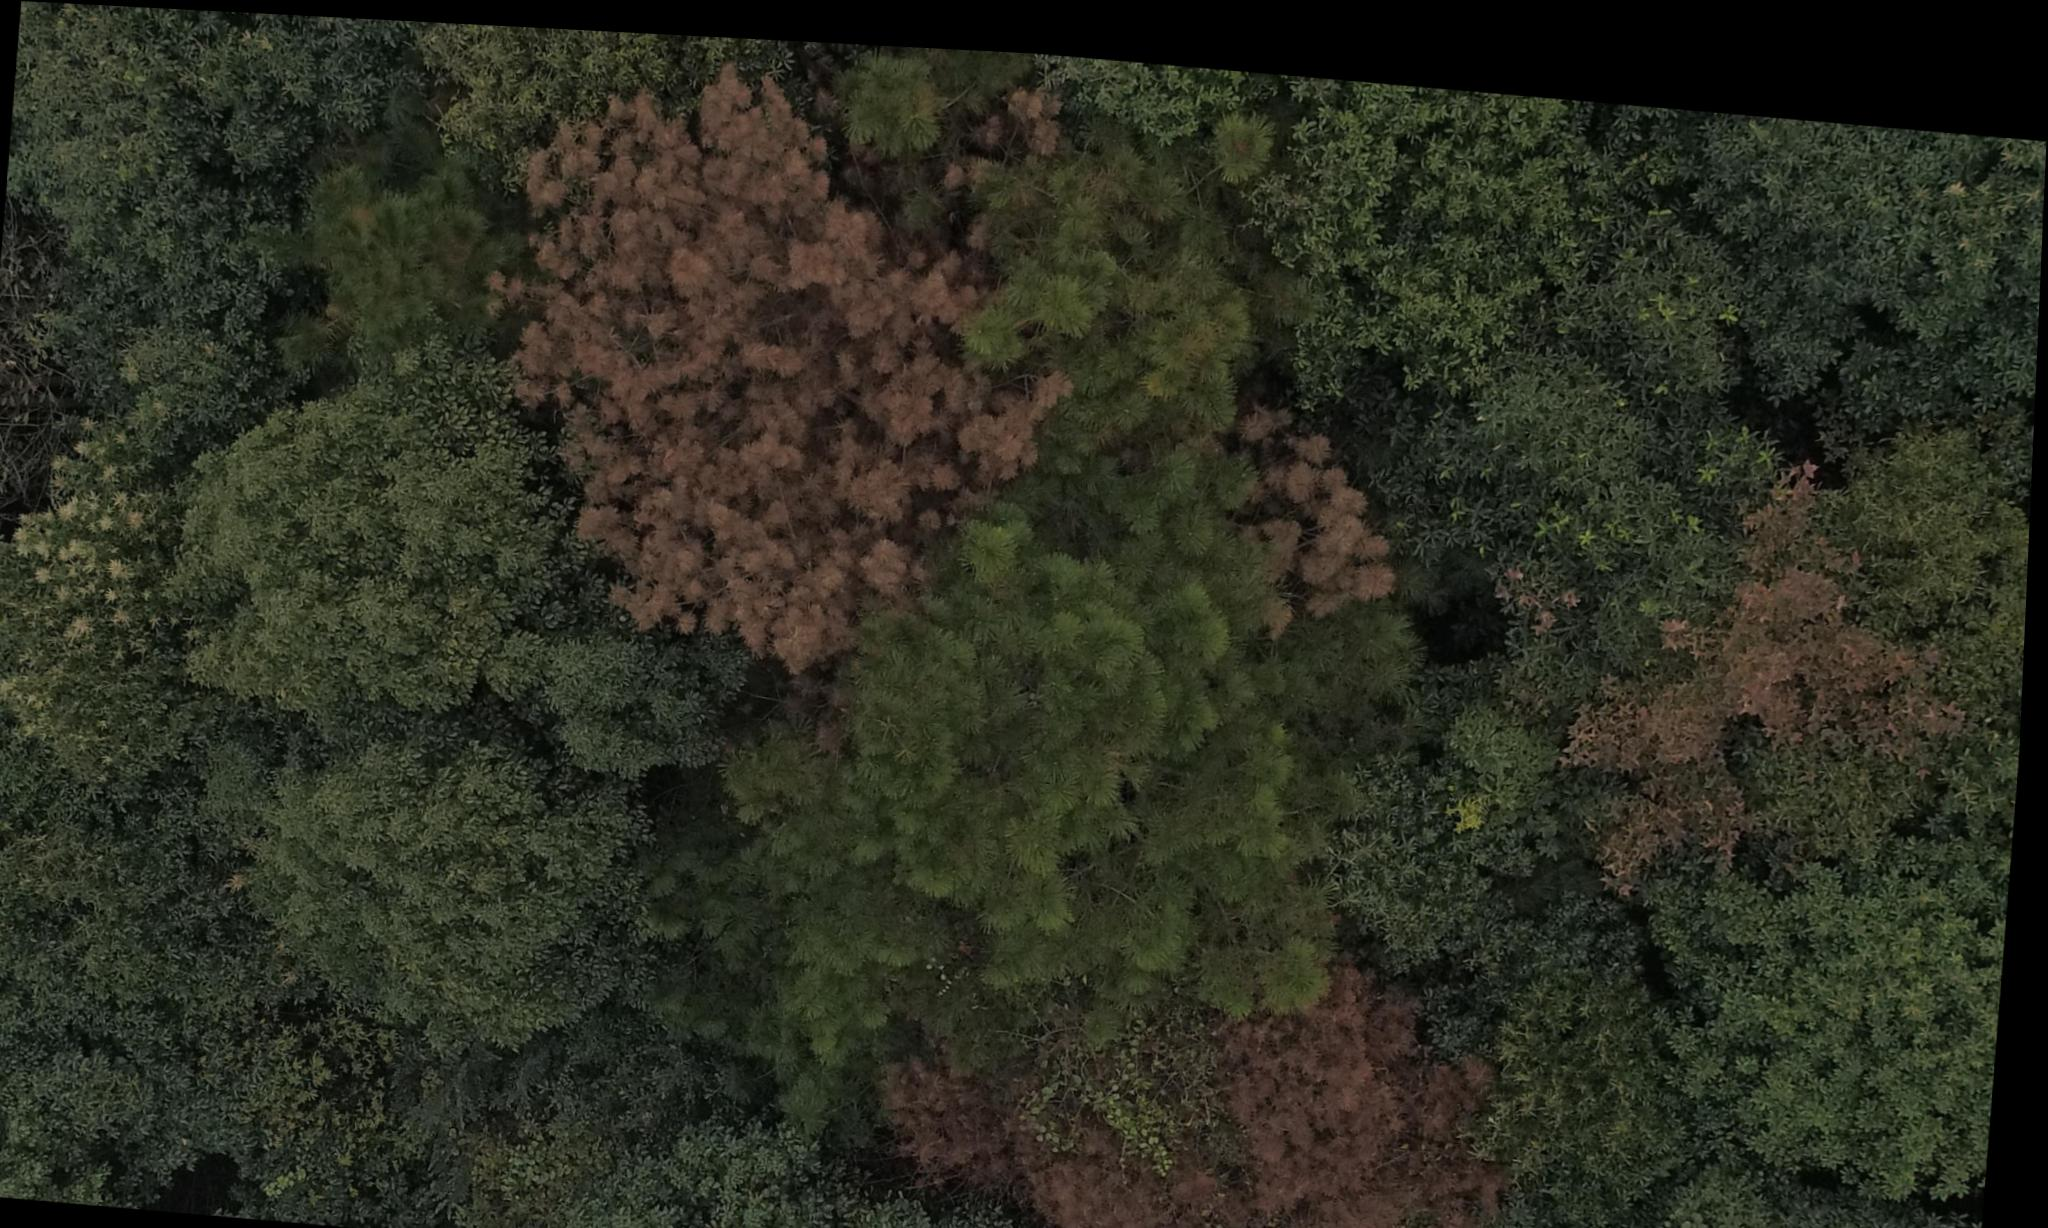heavy: (488, 23, 1082, 680), (895, 892, 1563, 1228), (1226, 384, 1409, 637)
